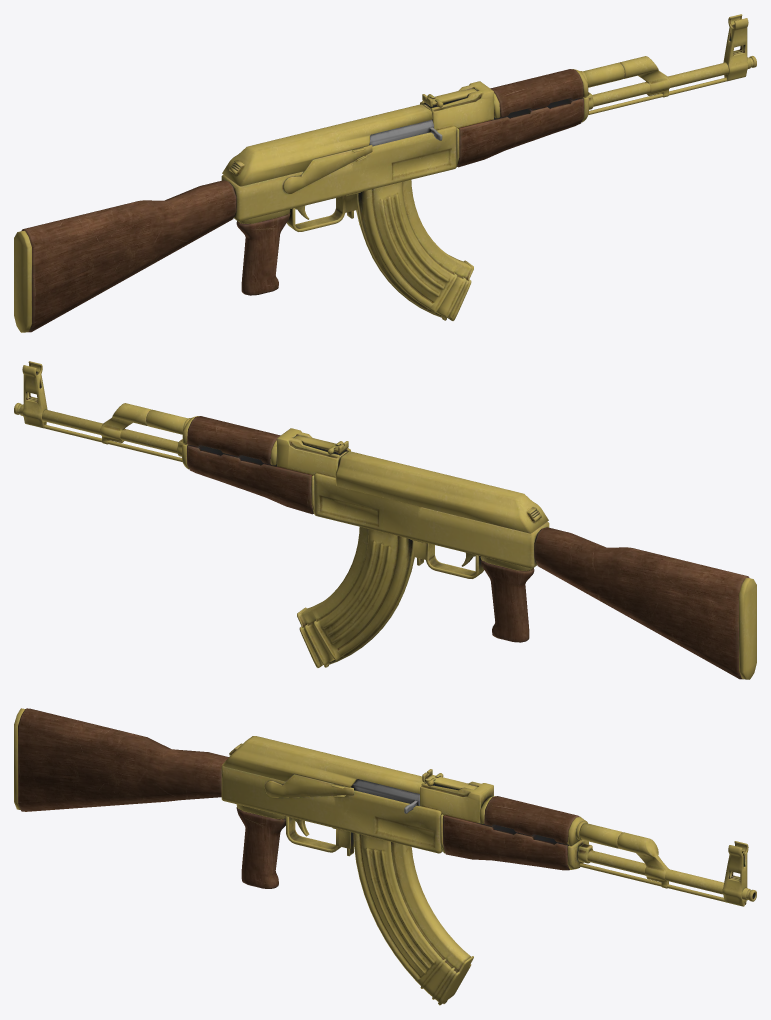
The model's file is weapon-midas.glb.
The picture shows the model from 3 angles, top to bottom: view 1: azimuth 30°, elevation 25°; view 2: azimuth 150°, elevation 25°; view 3: azimuth 330°, elevation 25°; orthographic projection.
Visible parts, largest first — view 1: part61, mag_49, part63, part53, part43, part59, part45, part47, part7, part37, part29, part31 (+5 smaller); view 2: part61, mag_49, part63, part53, part43, part59, part45, part47, part7, part37, part31, part39 (+3 smaller); view 3: part61, mag_49, part63, part53, part43, part59, part45, part47, part37, part29, part31, part39 (+4 smaller).
Boxes of the visible parts, <box> form: part61: <box>21,180,236,332</box>; mag_49: <box>356,180,473,320</box>; part63: <box>221,126,456,221</box>; part53: <box>222,104,433,186</box>; part43: <box>457,98,583,167</box>; part59: <box>236,211,290,295</box>; part45: <box>490,69,583,117</box>; part47: <box>420,81,493,130</box>; part7: <box>14,231,31,332</box>; part37: <box>592,56,756,106</box>; part29: <box>283,144,372,193</box>; part31: <box>723,14,748,81</box>; part61: <box>534,527,749,679</box>; mag_49: <box>297,527,414,667</box>; part63: <box>314,473,549,568</box>; part53: <box>335,451,548,533</box>; part43: <box>187,445,313,514</box>; part59: <box>480,558,534,642</box>; part45: <box>187,416,280,464</box>; part47: <box>277,428,350,477</box>; part7: <box>739,578,756,679</box>; part37: <box>14,403,178,453</box>; part31: <box>22,361,47,428</box>; part39: <box>100,403,151,444</box>; part61: <box>18,708,228,811</box>; mag_49: <box>353,833,473,1005</box>; part63: <box>221,765,442,853</box>; part53: <box>222,736,426,793</box>; part43: <box>443,815,569,870</box>; part59: <box>236,807,285,888</box>; part45: <box>484,796,579,844</box>; part47: <box>420,781,493,823</box>; part37: <box>587,850,756,901</box>; part29: <box>264,774,353,797</box>; part31: <box>722,841,748,906</box>; part39: <box>617,832,669,888</box>.
Bounding box in the file's own units: 1 × 0.3009 × 0.0656.
Materials: 1 (1 with a texture image).
